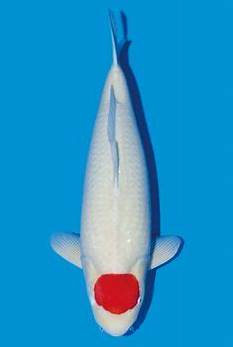sun: (48, 8, 181, 337)
